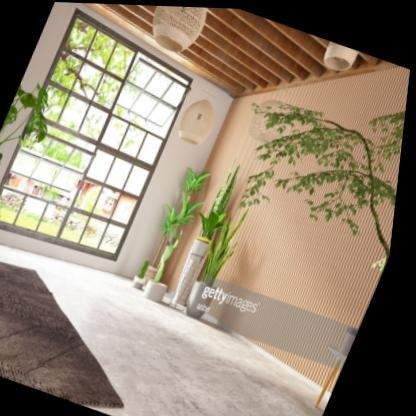Wall Panel: (157, 63, 411, 389)
Window: (0, 13, 194, 260)
